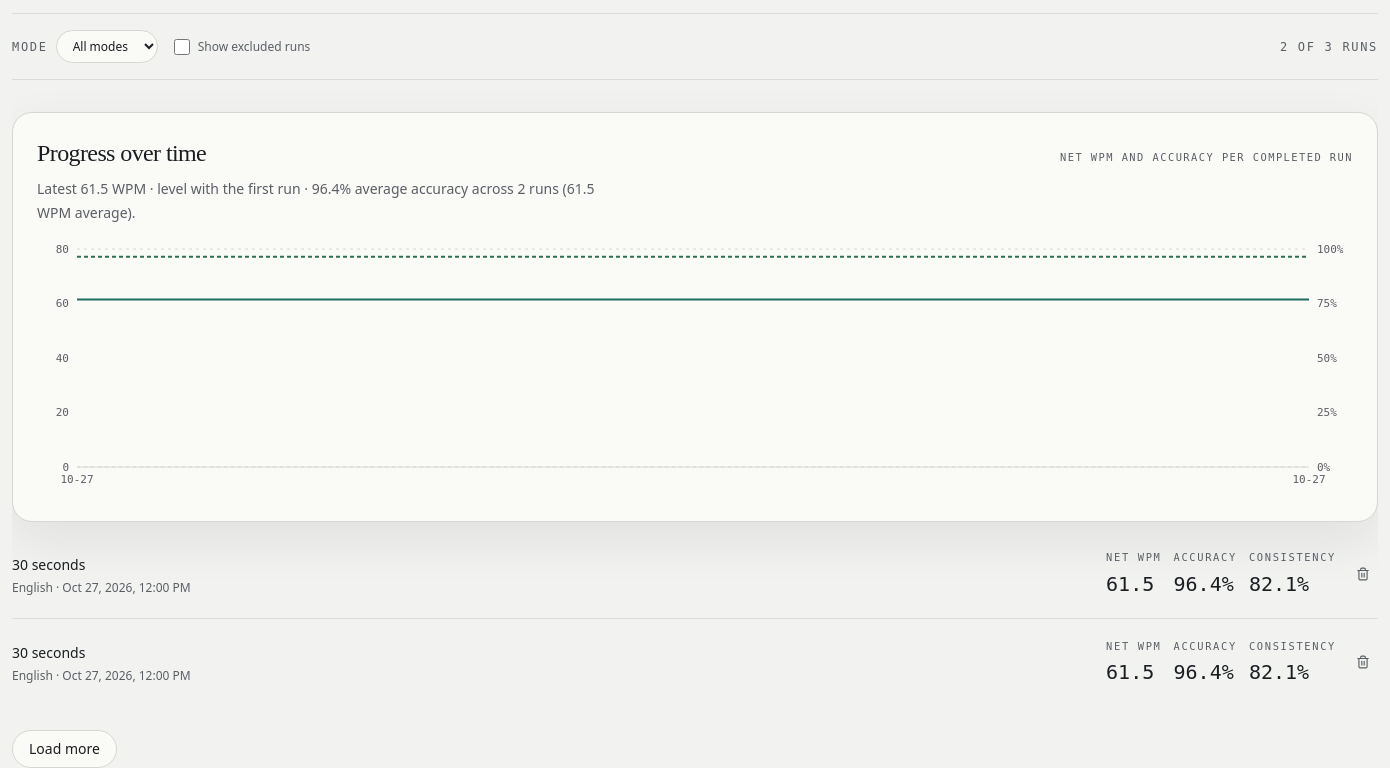
history page › discards a stale page after the filter changes
The width and height of the screenshot is (1390, 768).
(page scrolled)
Expected: the text "2 of 3 runs" is shown, [1280,38,1378,54]
Click the button "Load more". click: click(64, 749)
box: [12,730,117,767]
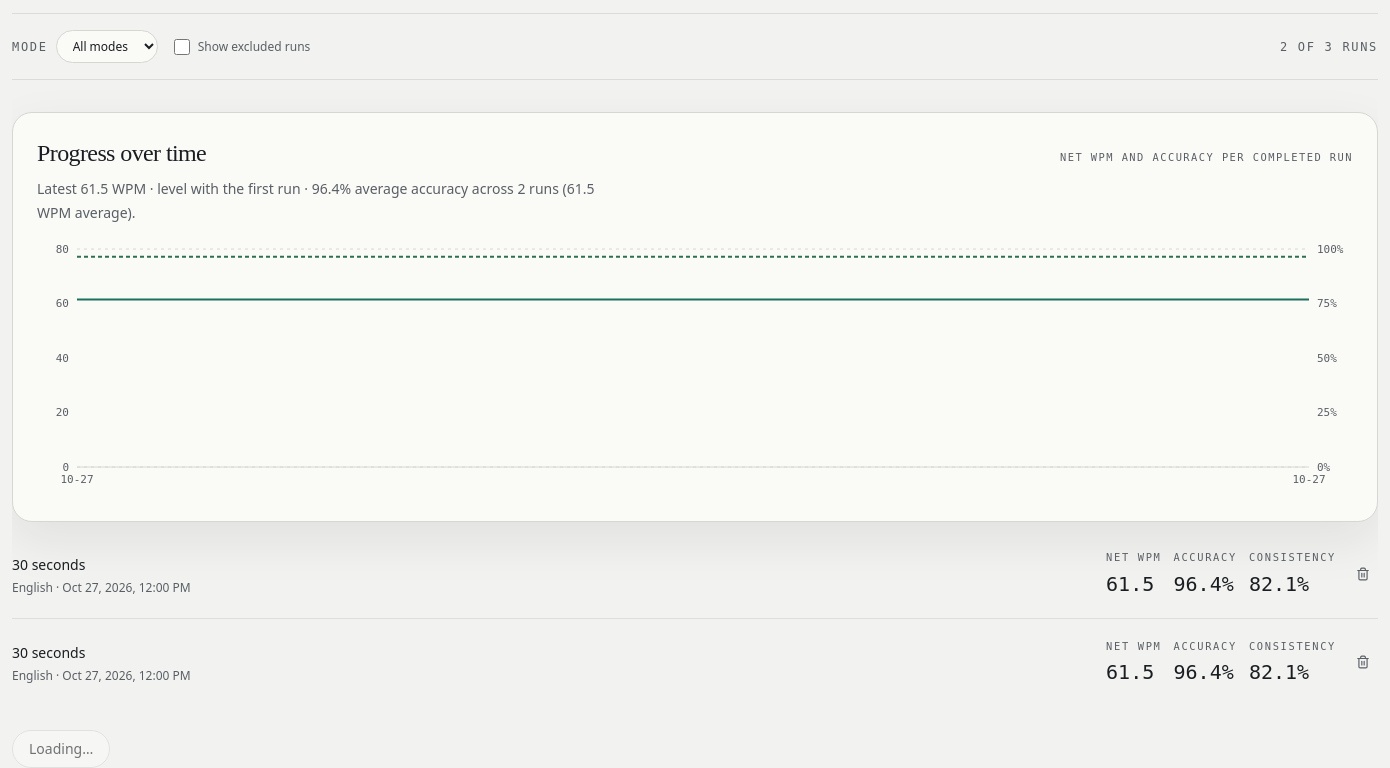
Select "Words" in the dropdown named "Filter by mode". click: (107, 46)
box: [56,30,158,63]
(page scrolled)
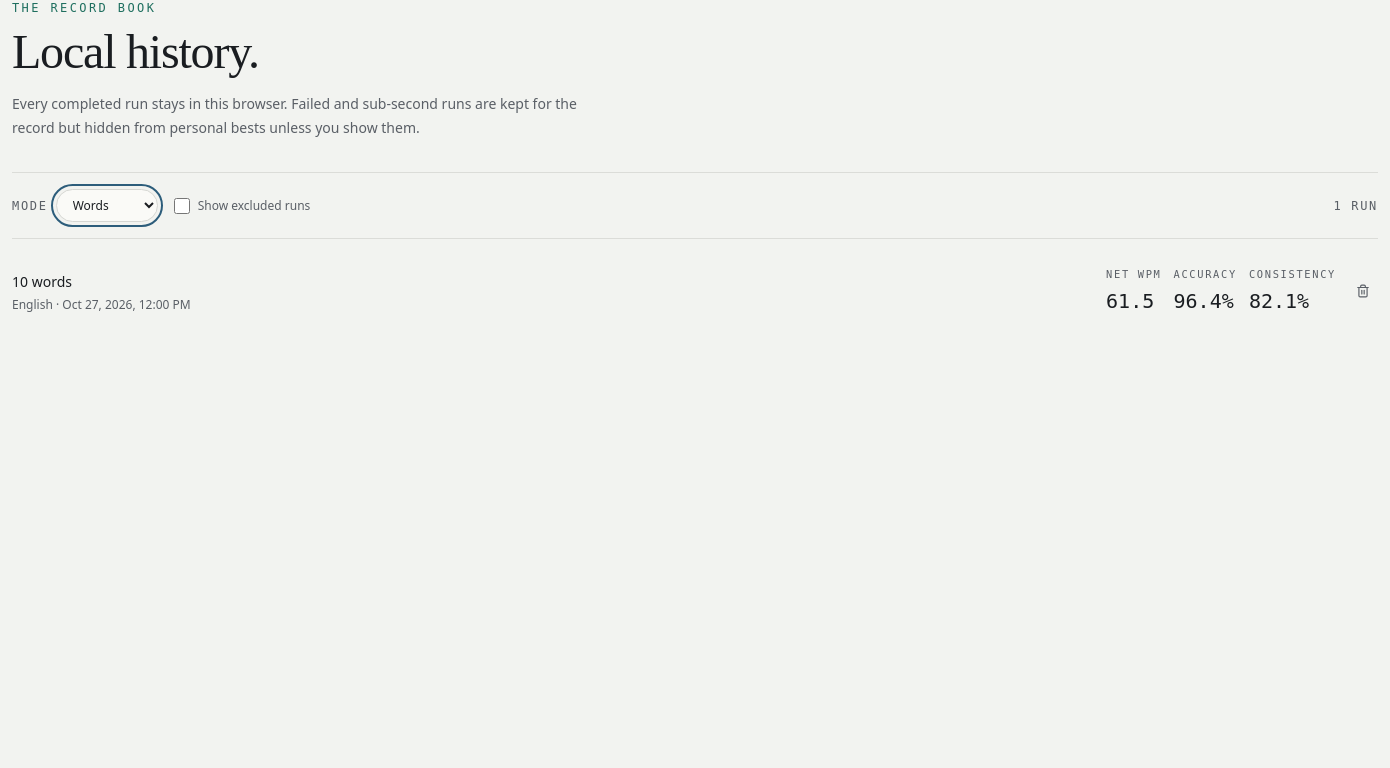
Now the text "1 run" is shown, box [1334,198,1378,214]
Now the link "10 words" is shown, box [12,272,72,291]
Now the link "30 seconds" is gone
